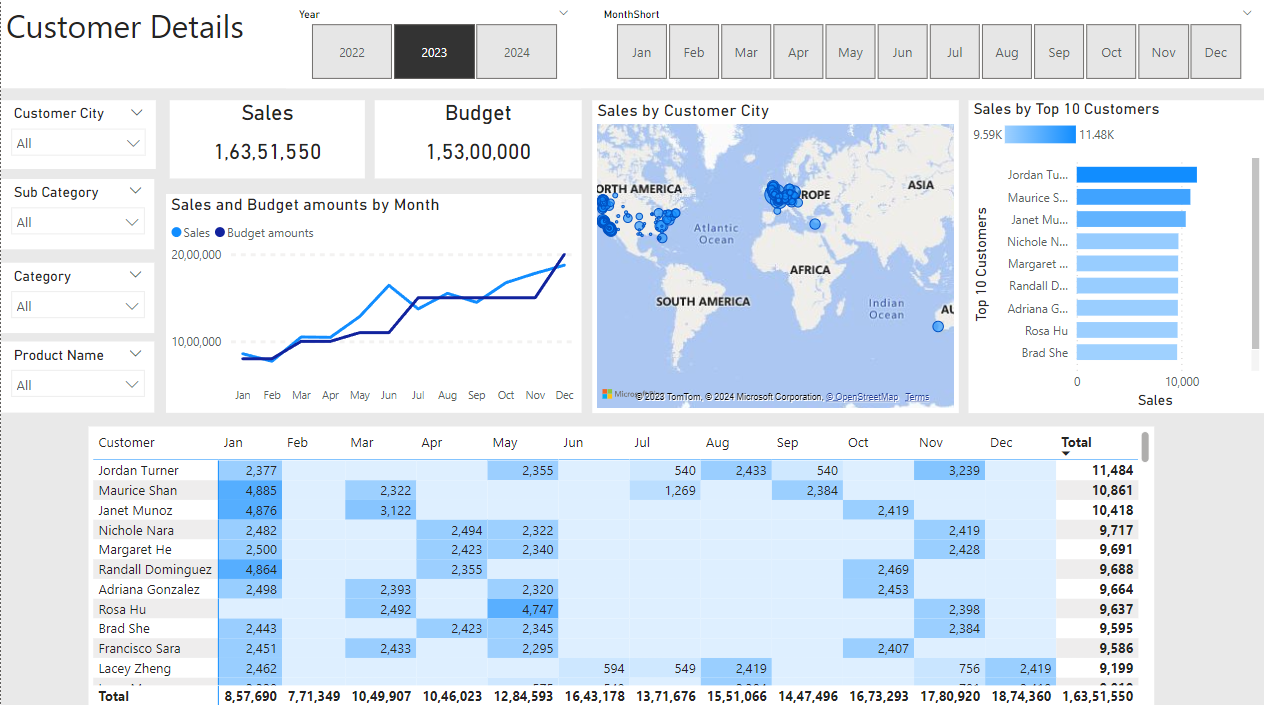

Layout of this report page (visuals, bound fields, positions):
{"tool":"powerbi","page":{"name":"Customer Details","canvas":[1280,720],"ordinal":1},"visuals":[{"type":"textbox","box":[0,0,1280,90.2],"z":0},{"type":"slicer","fields":{"Values":["DIM_Product_Cleaned.Sub Category"]},"box":[0,182.1,155.2,70.9],"z":1000},{"type":"slicer","fields":{"Values":["DIM_Product_Cleaned.Product Category"]},"box":[0,266.5,155.2,70.9],"z":2000},{"type":"slicer","fields":{"Values":["DIM_Product_Cleaned.Product Name"]},"box":[0,347.2,155.2,72.1],"z":3000},{"type":"slicer","fields":{"Values":["DIM_Calendar_cleaned.MonthShort"]},"box":[597.9,0,682.1,89.8],"z":4000},{"type":"slicer","fields":{"Values":["DIM_Customer_cleaned.Customer City"]},"box":[0,102.7,156.5,69.7],"z":5000},{"type":"slicer","fields":{"Values":["DIM_Calendar_cleaned.Date.Variation.Date Hierarchy.Year"]},"box":[289.2,0,298.4,90.2],"z":6000},{"type":"lineChart","fields":{"Category":["DIM_Calendar_cleaned.MonthShort"],"Y":["Key measures.Sales","Key measures.Budget amounts"]},"box":[167.1,197.6,420.5,221.5],"z":7000},{"type":"barChart","fields":{"Category":["DIM_Customer_cleaned.Full Name"],"Y":["Key measures.Sales"]},"box":[980.2,102.1,299.8,317],"z":8000},{"type":"map","fields":{"Category":["DIM_Customer_cleaned.Customer City"],"Size":["Key measures.Sales"]},"box":[598.2,102.1,371.4,317],"z":9000},{"type":"card","title":"Sales","fields":{"Values":["Key measures.Sales"]},"box":[171.1,102.1,197.6,79.6],"z":10000},{"type":"card","title":"Budget","fields":{"Values":["Sum(FACT_Budget.Budget)"]},"box":[378,102.1,209.6,79.6],"z":11000},{"type":"pivotTable","fields":{"Rows":["DIM_Customer_cleaned.Full Name"],"Values":["Key measures.Sales"],"Columns":["DIM_Calendar_cleaned.MonthShort"]},"box":[89.2,432.7,1079.4,287.3],"z":12000}]}

Visuals, with their boxes in screenshot pixels (x1, y1, x2, y2), scaled from the page's 1280x720 canvas onto the 1264x705 screenshot:
textbox: rect(0, 0, 1263, 88)
slicer - DIM_Product_Cleaned.Sub Category: rect(0, 178, 153, 248)
slicer - DIM_Product_Cleaned.Product Category: rect(0, 261, 153, 330)
slicer - DIM_Product_Cleaned.Product Name: rect(0, 340, 153, 411)
slicer - DIM_Calendar_cleaned.MonthShort: rect(590, 0, 1263, 88)
slicer - DIM_Customer_cleaned.Customer City: rect(0, 101, 155, 169)
slicer - DIM_Calendar_cleaned.Date.Variation.Date Hierarchy.Year: rect(286, 0, 580, 88)
lineChart - DIM_Calendar_cleaned.MonthShort x Key measures.Sales: rect(165, 193, 580, 410)
barChart - DIM_Customer_cleaned.Full Name x Key measures.Sales: rect(968, 100, 1263, 410)
map - DIM_Customer_cleaned.Customer City x Key measures.Sales: rect(591, 100, 957, 410)
"Sales" card: rect(169, 100, 364, 178)
"Budget" card: rect(373, 100, 580, 178)
pivotTable - DIM_Customer_cleaned.Full Name x Key measures.Sales: rect(88, 424, 1154, 704)
